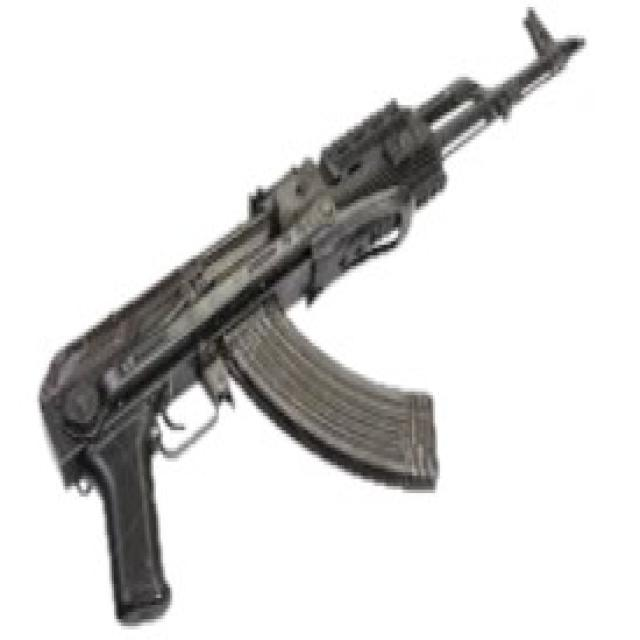rifle: (39, 4, 594, 638)
